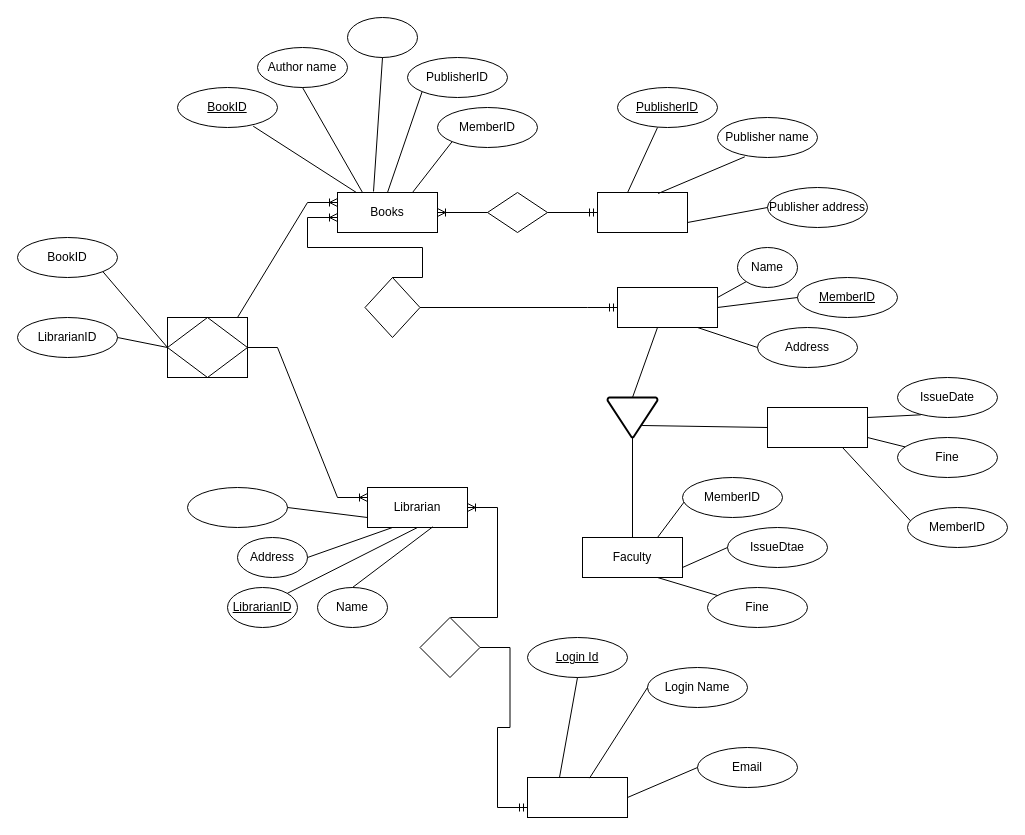
Some shapes in this 1025 by 835 pixel diagram are drawn without their labels. Here are the shapes that lost their labels. From the top down, the centre of each, then its label:
At (x=382, y=37): "Book name".
At (x=517, y=212): "supply".
At (x=642, y=212): "Publisher".
At (x=392, y=307): "issued by".
At (x=667, y=307): "Members".
At (x=207, y=347): "Manages".
At (x=632, y=417): "Is a".
At (x=817, y=427): "Student".
At (x=237, y=507): "LoginID".
At (x=449, y=647): "has".
At (x=577, y=797): "Login".
